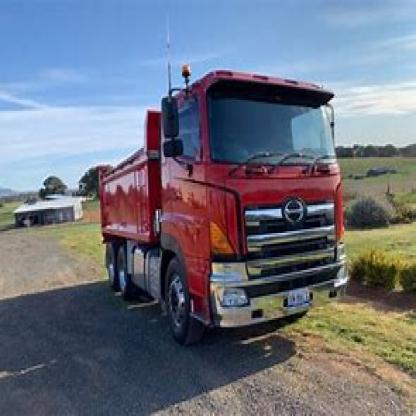dump_truck: (78, 57, 361, 338)
